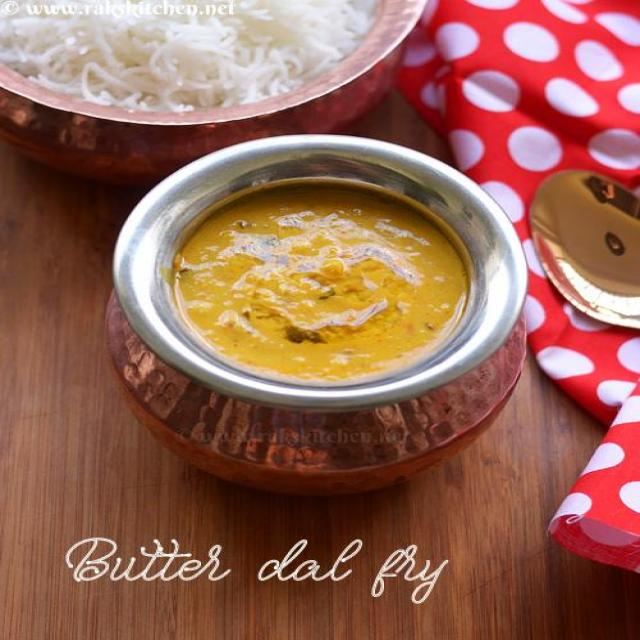dal: (172, 186, 470, 382)
rice: (0, 0, 401, 111)
